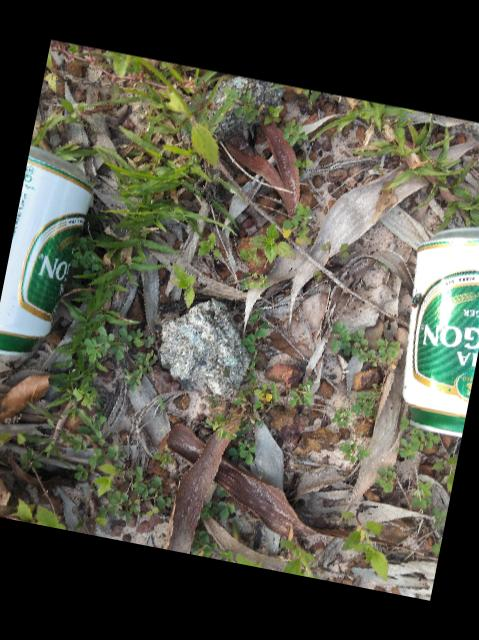metal: (0, 145, 90, 356), (402, 227, 479, 437)
